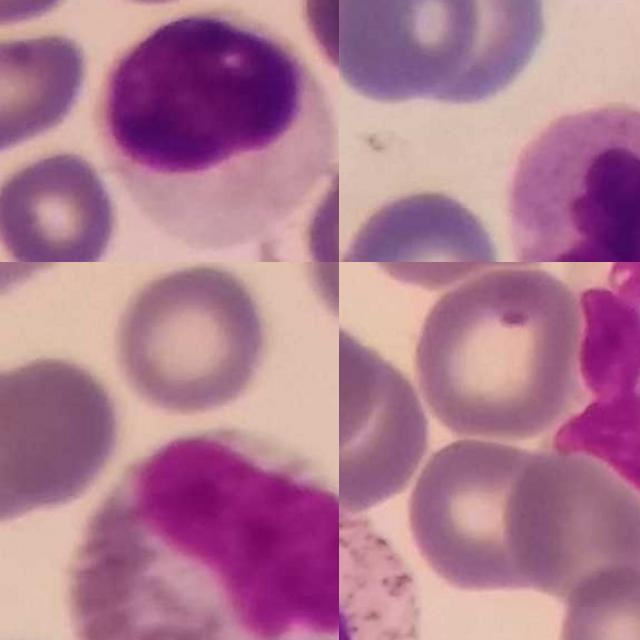Eosinophil: (64, 430, 339, 640), (559, 262, 640, 548)
Lymphocyte: (97, 8, 339, 249)
Monocyte: (510, 101, 640, 262)
